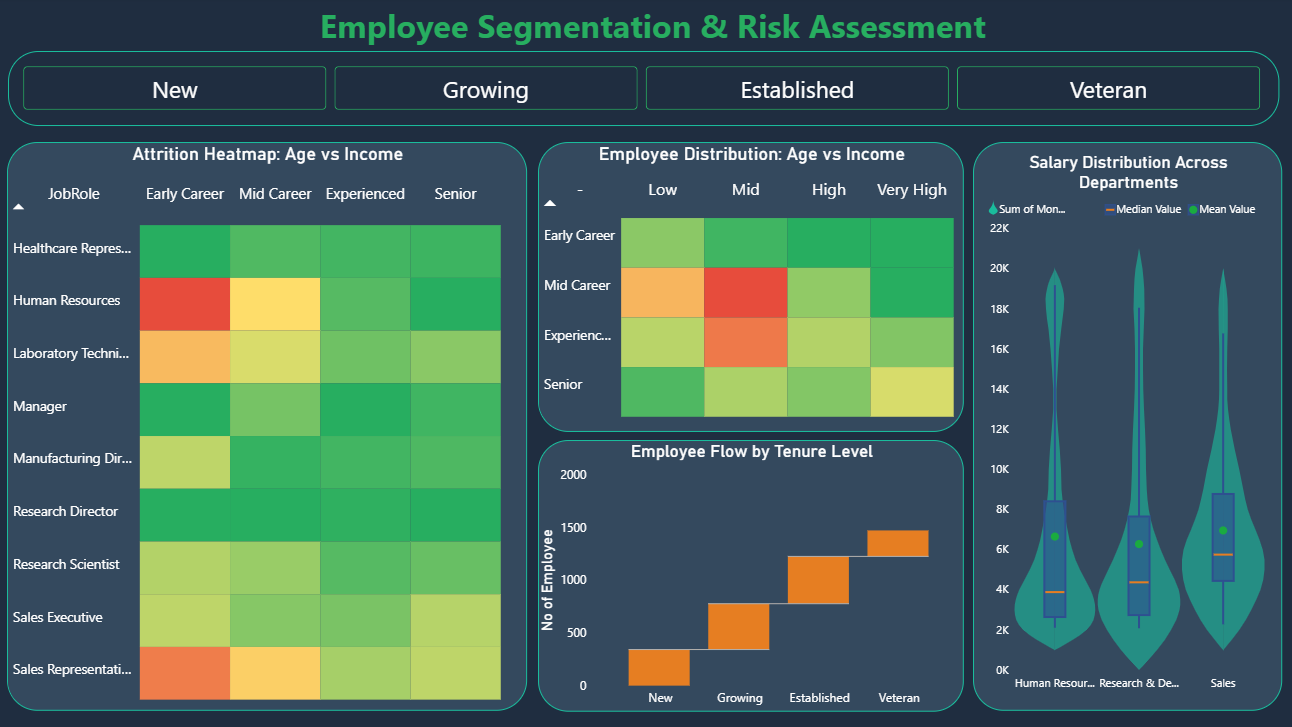

What the dashboard file says about the page in this screenshot:
{"tool":"powerbi","page":{"name":"Employee Segmentation","canvas":[1280,720],"ordinal":2},"visuals":[{"type":"waterfallChart","title":"Employee Flow by Tenure Level","fields":{"Category":["Working_HR.Tenure_Band"],"Y":["Sum(Working_HR.EmployeeCount)"]},"box":[533.6,436.9,420.2,268.3],"z":1000},{"type":"violinPlot4D46EB9EB3A141D9BA2289793175D971","title":"Salary Distribution Across Departments","fields":{"measure":["Sum(Working_HR.MonthlyIncome)"],"category":["Working_HR.Department"],"sampling":["Working_HR.EmployeeNumber"]},"box":[962.6,143,304.8,561.2],"z":2000},{"type":"advancedSlicerVisual","fields":{"Values":["Working_HR.Tenure_Band"]},"box":[11,52.8,1253.6,73.7],"z":3000},{"type":"textbox","box":[313.4,0,668.6,52.8],"z":4000},{"type":"pivotTable","title":"Attrition Heatmap: Age vs Income","fields":{"Values":["Working_HR.Attrition_Rate"],"Rows":["Working_HR.JobRole"],"Columns":["Working_HR.Age_Band"]},"box":[9.9,143,512.9,561.2],"z":5000},{"type":"pivotTable","title":"Employee Distribution: Age vs Income","fields":{"Rows":["Working_HR.Age_Band"],"Columns":["Working_HR.Income_Band"],"Values":["CountNonNull(Working_HR.EmployeeNumber)"]},"box":[533.9,142.6,420.1,285.9],"z":6000}]}

Visuals, with their boxes in screenshot pixels (x1, y1, x2, y2), scaled from the page's 1280x720 canvas onto the 1292x727 screenshot:
"Employee Flow by Tenure Level" waterfallChart: 539,441,963,712
"Salary Distribution Across Departments" violinPlot4D46EB9EB3A141D9BA2289793175D971: 972,144,1279,711
advancedSlicerVisual - Working_HR.Tenure_Band: 11,53,1276,128
textbox: 316,0,991,53
"Attrition Heatmap: Age vs Income" pivotTable: 10,144,528,711
"Employee Distribution: Age vs Income" pivotTable: 539,144,963,433
